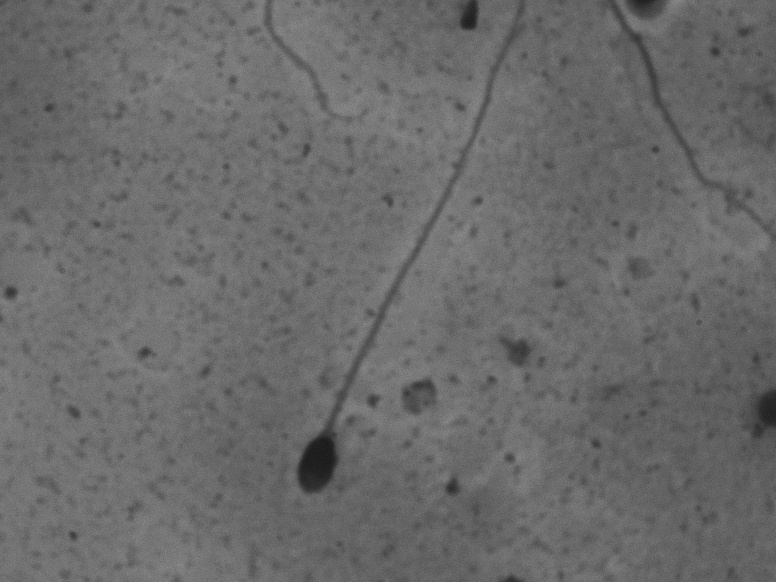Normal: (275, 7, 538, 507)
